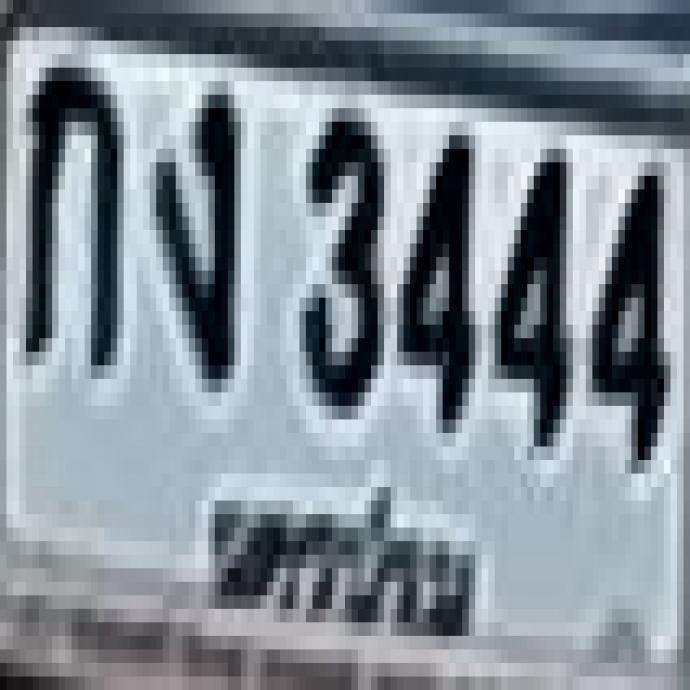3: (297, 100, 377, 404)
4: (584, 152, 661, 456), (488, 134, 563, 432), (395, 119, 468, 419)
A01: (20, 55, 115, 358)
A07: (149, 80, 231, 374)
